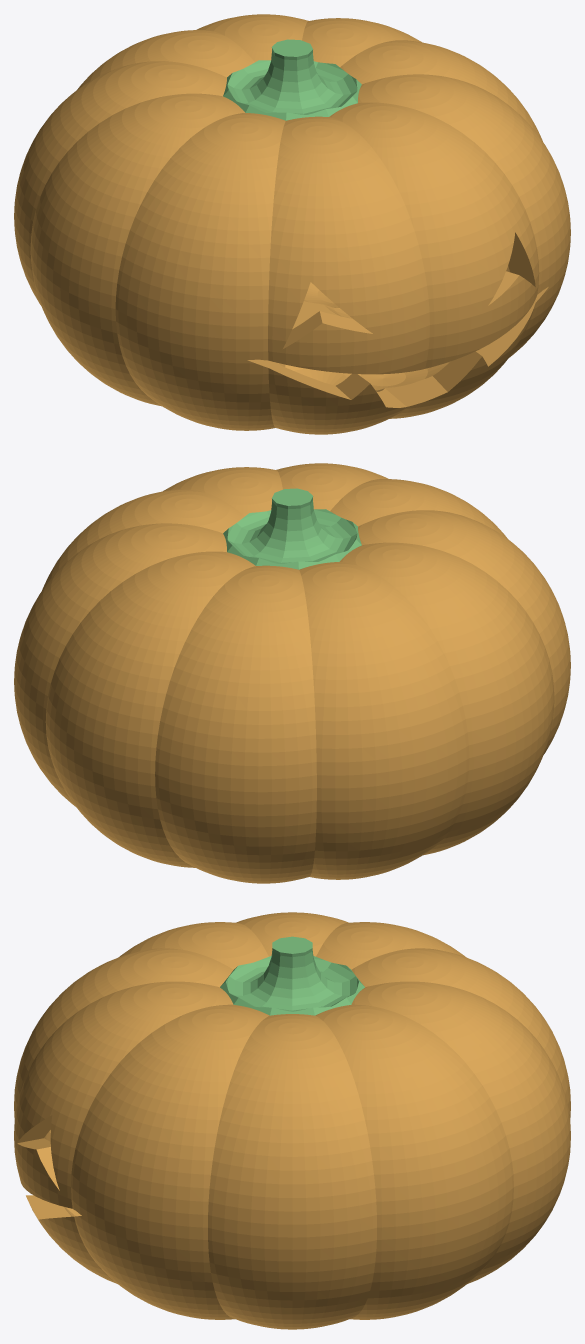
The picture shows the model from 3 angles, top to bottom: view 1: azimuth 30°, elevation 25°; view 2: azimuth 150°, elevation 25°; view 3: azimuth 270°, elevation 25°; orthographic projection.
Visible parts, largest first — view 1: Mesh_Mesh_head_geo.001_lambert2SG.001; view 2: Mesh_Mesh_head_geo.001_lambert2SG.001; view 3: Mesh_Mesh_head_geo.001_lambert2SG.001.
Part boxes in pixels (x1=…): Mesh_Mesh_head_geo.001_lambert2SG.001: x1=14, y1=14, x2=570, y2=434; Mesh_Mesh_head_geo.001_lambert2SG.001: x1=14, y1=463, x2=570, y2=883; Mesh_Mesh_head_geo.001_lambert2SG.001: x1=14, y1=912, x2=570, y2=1329.
Bounding box in the file's own units: 0.037 × 0.0236 × 0.0374.
